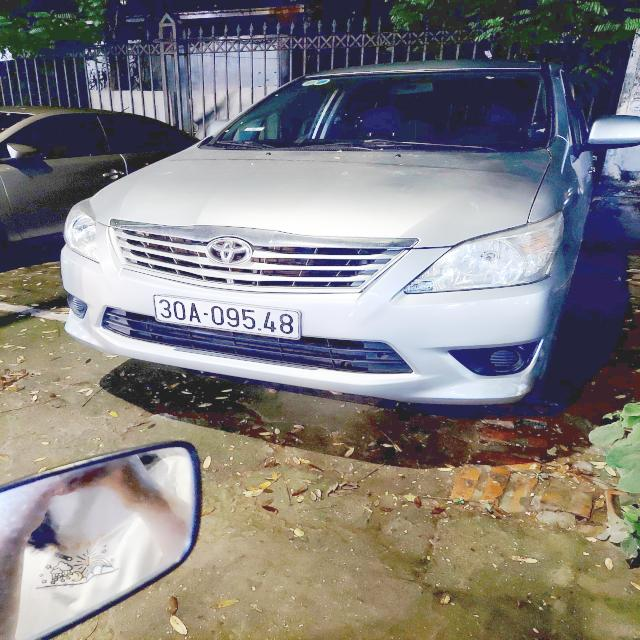license_plate: (153, 292, 306, 343)
